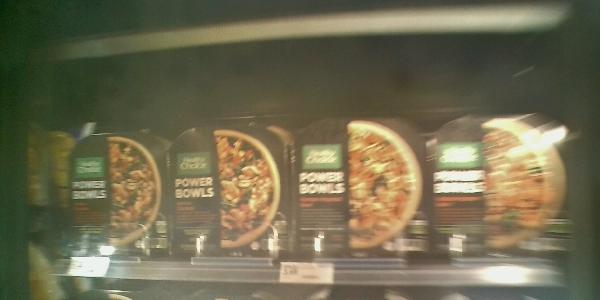pizza: (432, 117, 573, 252), (299, 122, 429, 254), (35, 132, 171, 253), (170, 123, 294, 252)
